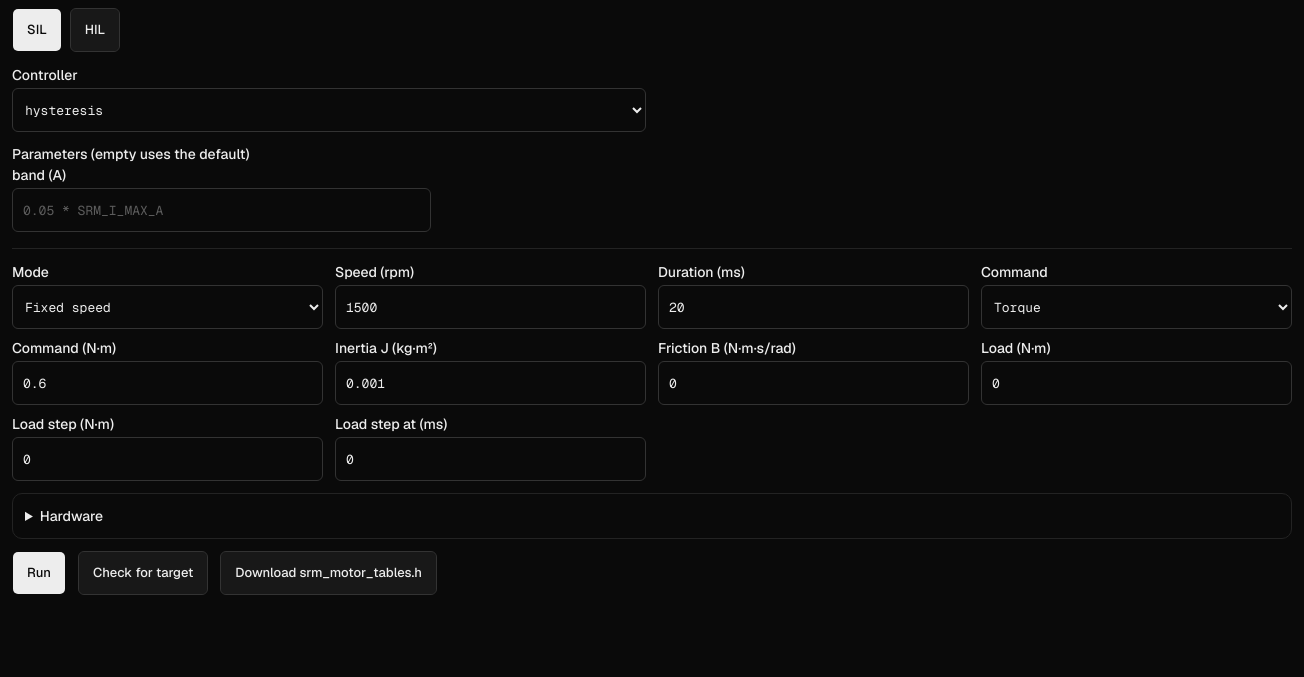
it: ControlTab › offers typed live parameters for a custom folder and none for a reference controller in HIL mode
This screenshot has width=1304, height=677.
Expected: the field with id "ctl-p-band" is shown, [12,188,431,232]
Click the button "HIL". click: (95, 30)
box: [70,8,120,52]
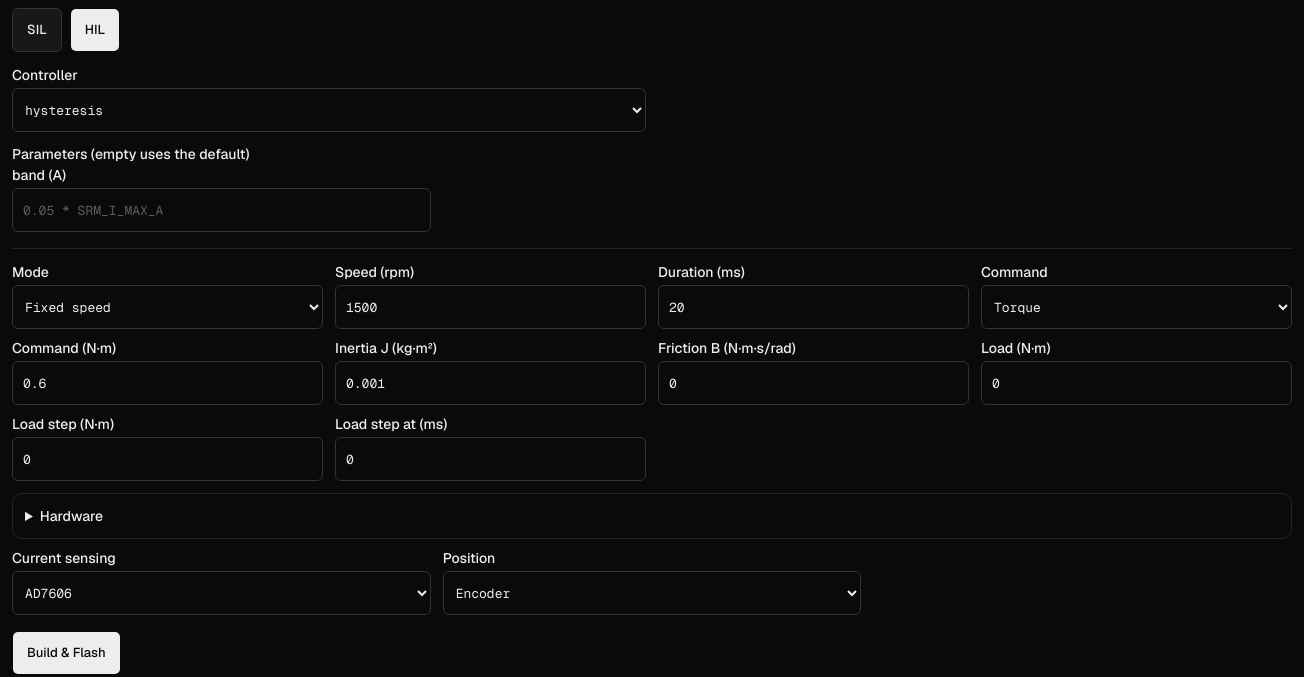
Select "Custom folder…" in the dropdown with id "ctl-controller". click: (329, 110)
box: [12,88,646,132]
(page scrolled)
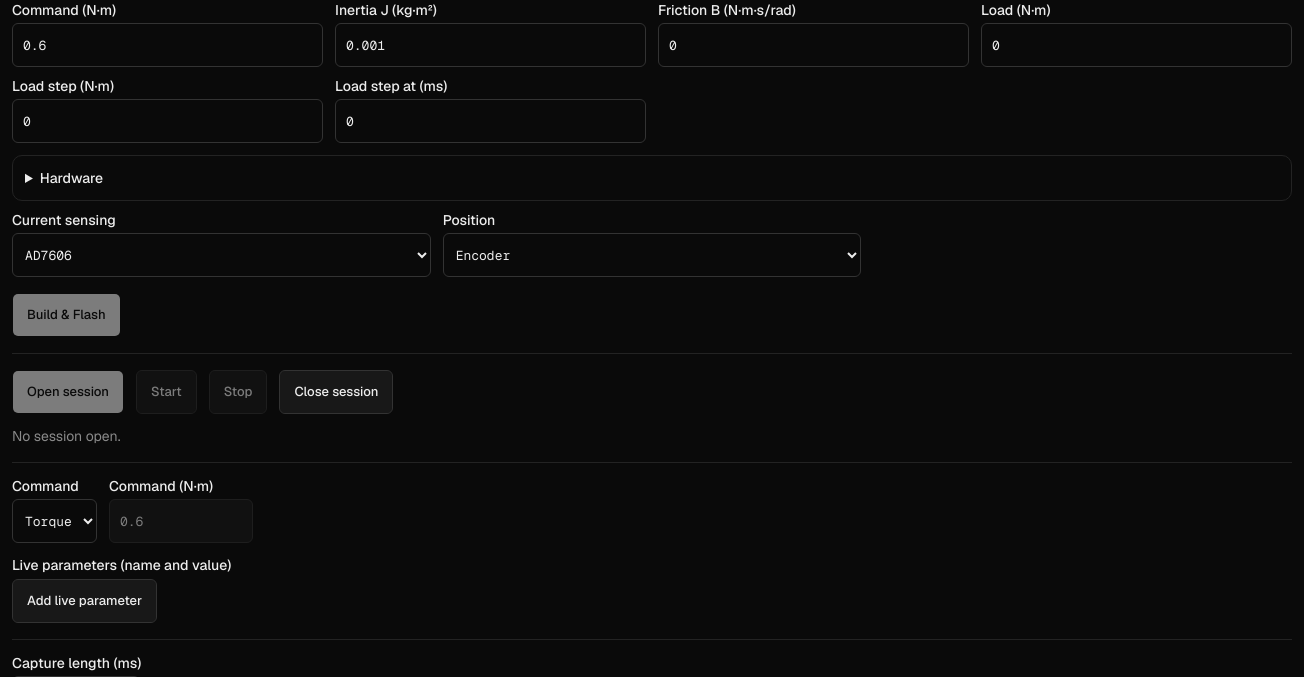
Now the button "Add live parameter" is shown, box [12,579,157,623]
